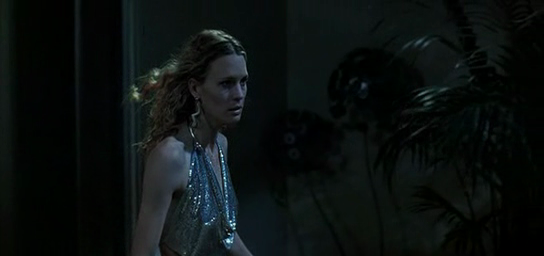face: (202, 54, 248, 124)
ms: (1, 1, 544, 256)
person: (128, 31, 251, 256)
